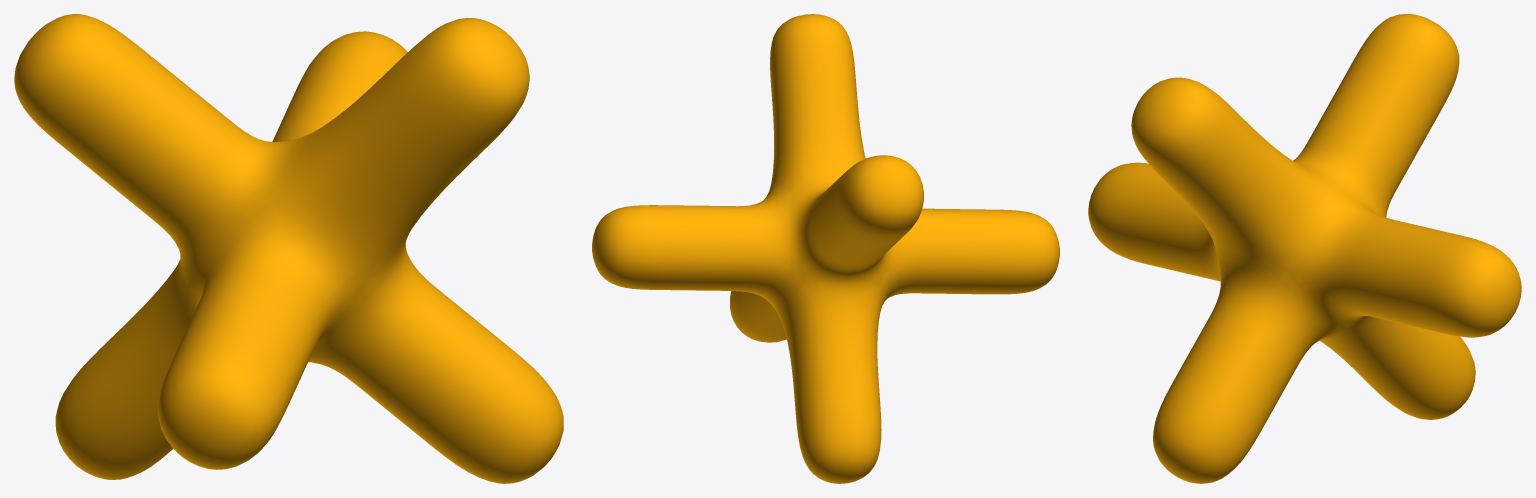
Rendered from star-abstract-shape-animated-3d-icon-1042881958811.glb.
3 renders of one model, left to right at view 1: azimuth 30°, elevation 25°; view 2: azimuth 150°, elevation 25°; view 3: azimuth 270°, elevation 25°, orthographic. The views are drawn at different scales.
Parts seen in each view (by area): view 1: 3D Plus; view 2: 3D Plus; view 3: 3D Plus.
Part boxes in pixels (x1=…): 3D Plus: x1=14, y1=14, x2=563, y2=483; 3D Plus: x1=592, y1=14, x2=1059, y2=483; 3D Plus: x1=1088, y1=14, x2=1521, y2=483.
Bounding box in the file's own units: 1.59 × 1.7 × 1.62.
